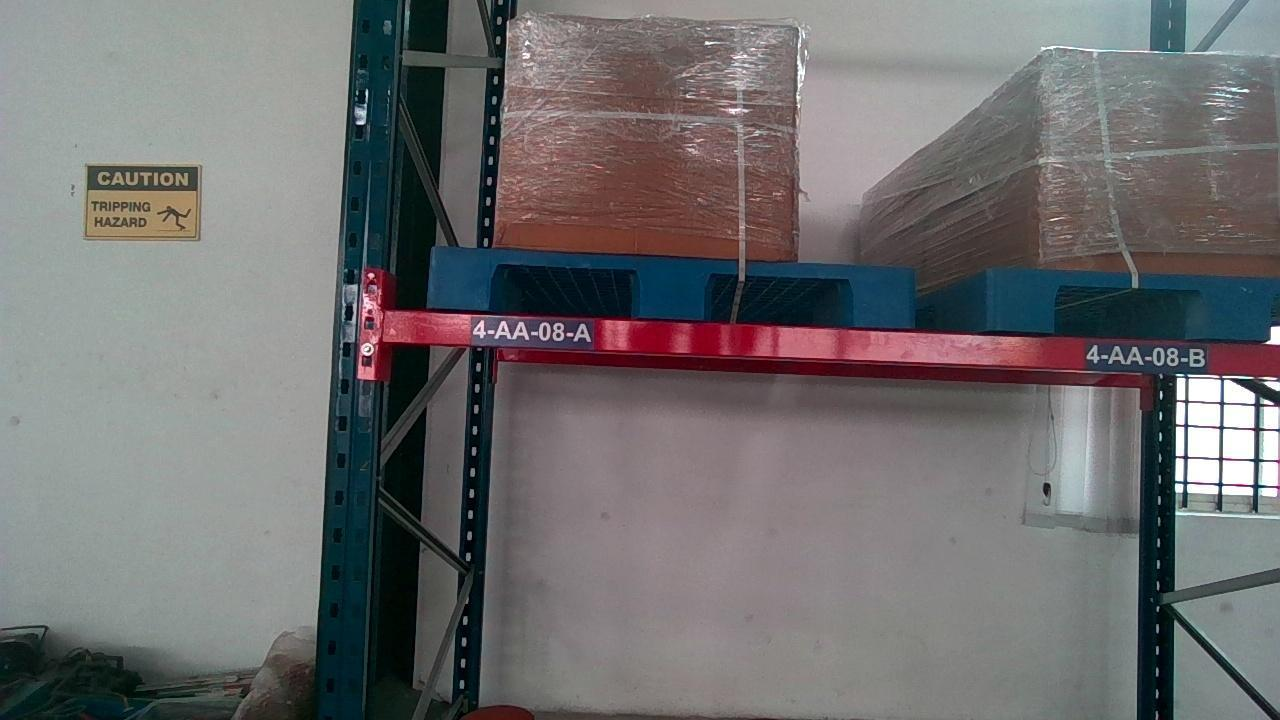h_rack: (384, 310, 1280, 376)
small_pallet: (422, 252, 916, 321), (996, 271, 1276, 335)
